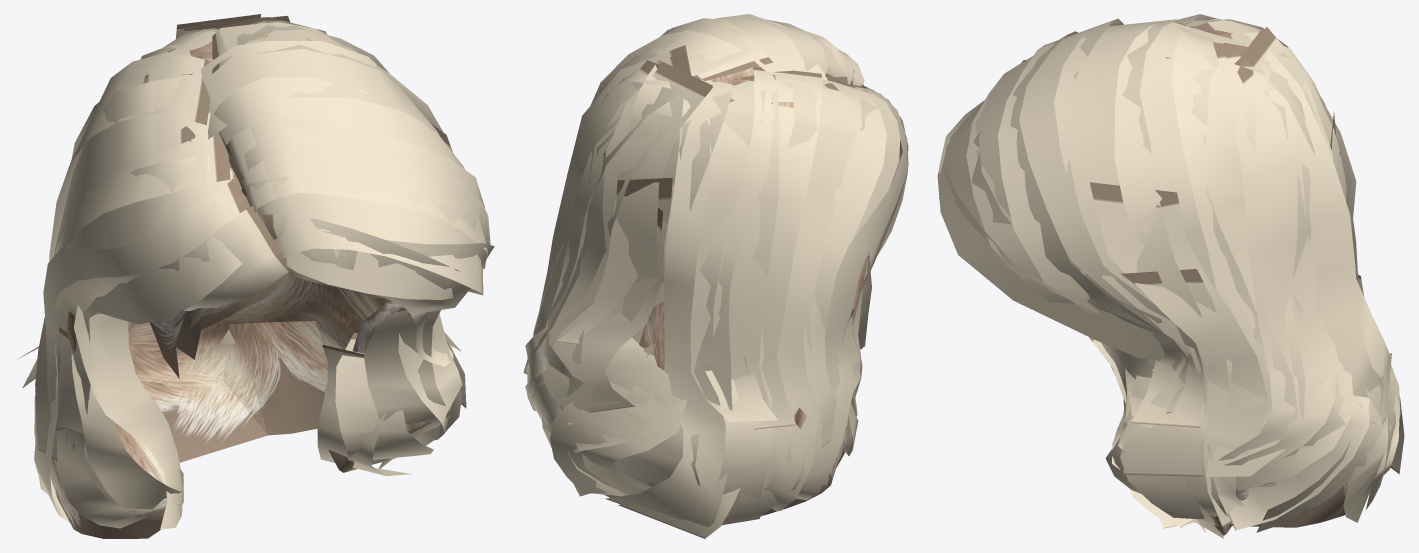
File: hair_006.obj
The picture shows the model from 3 angles, left to right: view 1: azimuth 30°, elevation 25°; view 2: azimuth 150°, elevation 25°; view 3: azimuth 270°, elevation 25°; orthographic projection. The views are drawn at different scales.
Bounding box in the file's own units: 23.04 × 29.55 × 26.8.
